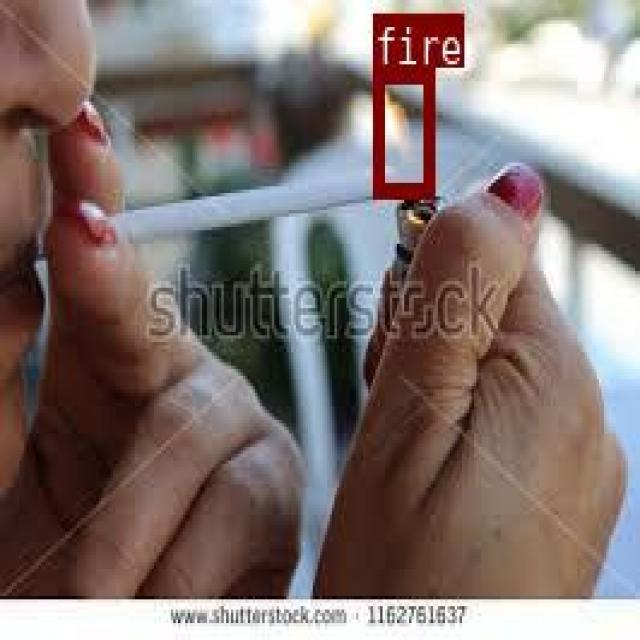fire: (372, 68, 431, 196)
